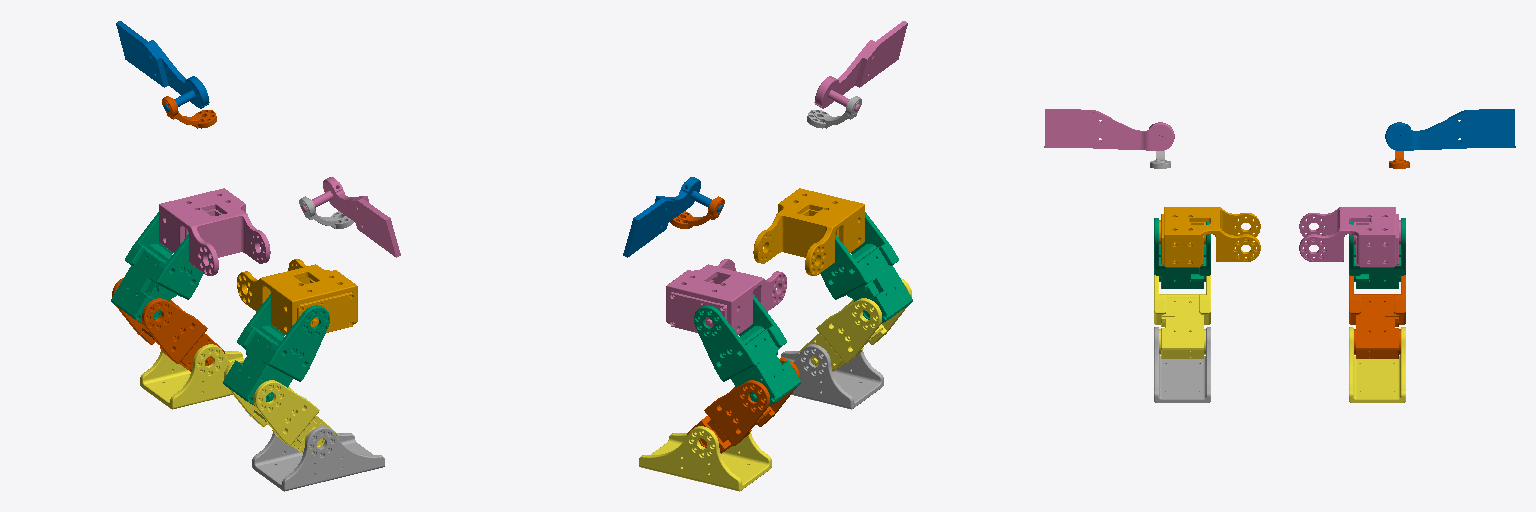
The robot description file, URDF, robot "arti_d1":
<?xml version="1.0"?>
<!-- generated by export_urdf.py from Fusion doc Open_mini_duck_redesign_for URDF, ARM_MODE=serial, ZERO_POSE=current -->
<!-- trunk frame origin = point from sketch redesign/Sketch52, Fusion world -9.64957 0 -246.248 mm (axes = Fusion world: x forward, y left, z up) -->
<!-- joint 0 = this Fusion pose (deg from the straight CAD pose): left_hip_pitch +36.240, left_knee -78.700, left_ankle +42.456, right_hip_pitch +36.240, right_knee -78.700, right_ankle +42.456 -->
<robot name="arti_d1">
  <link name="trunk">
    <inertial>
        <origin xyz="0 0 0" rpy="0 0 0" />
        <mass value="1e-9" />
        <inertia ixx="0" ixy="0" ixz="0" iyy="0" iyz="0" izz="0" />
    </inertial>
  </link>

  <!-- trunk = Fusion origin frame (zero mass); pelvis = root, origin at the ankle center on the floor -->
  <joint name="trunk_frame" type="fixed">
      <origin xyz="0.00964957 0 0.246248" rpy="0 0 0" />
      <parent link="pelvis" />
      <child link="trunk" />
      <axis xyz="0 0 0"/>
  </joint>

  <link name="pelvis">
    <inertial>
      <origin xyz="0.0142445 5.36923e-05 0.300732" rpy="0 0 0"/>
      <mass value="3.69352"/>
      <inertia ixx="0.0179764" iyy="0.0137874" izz="0.0183283" ixy="4.22501e-06" iyz="-7.15743e-06" ixz="0.00060127"/>
    </inertial>
    <visual>
      <origin xyz="0 0 0" rpy="0 0 0"/>
      <geometry><mesh filename="../../meshes/arti_d1/pelvis.stl" scale="0.001 0.001 0.001"/></geometry>
    </visual>
    <collision>
      <origin xyz="0 0 0" rpy="0 0 0"/>
      <geometry><mesh filename="../../meshes/arti_d1/pelvis.stl" scale="0.001 0.001 0.001"/></geometry>
    </collision>
  </link>

  <link name="left_thigh">
    <inertial>
      <origin xyz="-0.0339167 0.0245583 -0.0462735" rpy="0 0 0"/>
      <mass value="0.201567"/>
      <inertia ixx="0.000117356" iyy="0.000112819" izz="9.48907e-05" ixy="6.01623e-07" iyz="8.2081e-07" ixz="-3.55819e-05"/>
    </inertial>
    <visual>
      <origin xyz="0 0 0" rpy="0 0 0"/>
      <geometry><mesh filename="../../meshes/arti_d1/left_thigh.stl" scale="0.001 0.001 0.001"/></geometry>
    </visual>
    <collision>
      <origin xyz="0 0 0" rpy="0 0 0"/>
      <geometry><mesh filename="../../meshes/arti_d1/left_thigh.stl" scale="0.001 0.001 0.001"/></geometry>
    </collision>
  </link>
  <link name="left_foot_link">
    <inertial>
      <origin xyz="0.0116596 -0.0237721 -0.0422721" rpy="0 0 0"/>
      <mass value="0.15981"/>
      <inertia ixx="8.91057e-05" iyy="0.000156093" izz="0.000181798" ixy="-8.45586e-08" iyz="2.94024e-07" ixz="7.00463e-06"/>
    </inertial>
    <visual>
      <origin xyz="0 0 0" rpy="0 0 0"/>
      <geometry><mesh filename="../../meshes/arti_d1/left_foot.stl" scale="0.001 0.001 0.001"/></geometry>
    </visual>
    <collision>
      <origin xyz="0 0 0" rpy="0 0 0"/>
      <geometry><mesh filename="../../meshes/arti_d1/left_foot.stl" scale="0.001 0.001 0.001"/></geometry>
    </collision>
  </link>
  <link name="left_hip">
    <inertial>
      <origin xyz="-0.00492338 0 -0.084295" rpy="0 0 0"/>
      <mass value="0.19661"/>
      <inertia ixx="9.44363e-05" iyy="0.000104571" izz="5.45394e-05" ixy="0" iyz="0" ixz="8.88875e-07"/>
    </inertial>
    <visual>
      <origin xyz="0 0 0" rpy="0 0 0"/>
      <geometry><mesh filename="../../meshes/arti_d1/left_hip.stl" scale="0.001 0.001 0.001"/></geometry>
    </visual>
    <collision>
      <origin xyz="0 0 0" rpy="0 0 0"/>
      <geometry><mesh filename="../../meshes/arti_d1/left_hip.stl" scale="0.001 0.001 0.001"/></geometry>
    </collision>
  </link>
  <link name="left_shin">
    <inertial>
      <origin xyz="0.0387273 0.023442 -0.0423231" rpy="0 0 0"/>
      <mass value="0.201572"/>
      <inertia ixx="0.000109424" iyy="0.000112813" izz="0.00010282" ixy="6.87261e-07" iyz="-7.52772e-07" ixz="3.71616e-05"/>
    </inertial>
    <visual>
      <origin xyz="0 0 0" rpy="0 0 0"/>
      <geometry><mesh filename="../../meshes/arti_d1/left_shin.stl" scale="0.001 0.001 0.001"/></geometry>
    </visual>
    <collision>
      <origin xyz="0 0 0" rpy="0 0 0"/>
      <geometry><mesh filename="../../meshes/arti_d1/left_shin.stl" scale="0.001 0.001 0.001"/></geometry>
    </collision>
  </link>
  <link name="left_roll_to_pitch">
    <inertial>
      <origin xyz="0.0277586 0.0608919 0.00177323" rpy="0 0 0"/>
      <mass value="0.220929"/>
      <inertia ixx="0.000106859" iyy="0.000105589" izz="0.000163882" ixy="-4.32704e-06" iyz="1.70213e-06" ixz="3.58423e-07"/>
    </inertial>
    <visual>
      <origin xyz="0 0 0" rpy="0 0 0"/>
      <geometry><mesh filename="../../meshes/arti_d1/left_roll_to_pitch.stl" scale="0.001 0.001 0.001"/></geometry>
    </visual>
    <collision>
      <origin xyz="0 0 0" rpy="0 0 0"/>
      <geometry><mesh filename="../../meshes/arti_d1/left_roll_to_pitch.stl" scale="0.001 0.001 0.001"/></geometry>
    </collision>
  </link>
  <link name="right_foot_link">
    <inertial>
      <origin xyz="0.0116596 0.0242279 -0.0422721" rpy="0 0 0"/>
      <mass value="0.15981"/>
      <inertia ixx="8.91057e-05" iyy="0.000156093" izz="0.000181798" ixy="-8.45586e-08" iyz="2.94024e-07" ixz="7.00463e-06"/>
    </inertial>
    <visual>
      <origin xyz="0 0 0" rpy="0 0 0"/>
      <geometry><mesh filename="../../meshes/arti_d1/right_foot.stl" scale="0.001 0.001 0.001"/></geometry>
    </visual>
    <collision>
      <origin xyz="0 0 0" rpy="0 0 0"/>
      <geometry><mesh filename="../../meshes/arti_d1/right_foot.stl" scale="0.001 0.001 0.001"/></geometry>
    </collision>
  </link>
  <link name="right_roll_to_pitch">
    <inertial>
      <origin xyz="0.0277584 -0.060892 0.00177324" rpy="0 0 0"/>
      <mass value="0.220928"/>
      <inertia ixx="0.000106858" iyy="0.000105587" izz="0.00016388" ixy="4.32791e-06" iyz="-1.70218e-06" ixz="3.5834e-07"/>
    </inertial>
    <visual>
      <origin xyz="0 0 0" rpy="0 0 0"/>
      <geometry><mesh filename="../../meshes/arti_d1/right_roll_to_pitch.stl" scale="0.001 0.001 0.001"/></geometry>
    </visual>
    <collision>
      <origin xyz="0 0 0" rpy="0 0 0"/>
      <geometry><mesh filename="../../meshes/arti_d1/right_roll_to_pitch.stl" scale="0.001 0.001 0.001"/></geometry>
    </collision>
  </link>
  <link name="right_hip">
    <inertial>
      <origin xyz="-0.00492338 0 -0.084295" rpy="0 0 0"/>
      <mass value="0.19661"/>
      <inertia ixx="9.44363e-05" iyy="0.000104571" izz="5.45394e-05" ixy="0" iyz="0" ixz="8.88875e-07"/>
    </inertial>
    <visual>
      <origin xyz="0 0 0" rpy="0 0 0"/>
      <geometry><mesh filename="../../meshes/arti_d1/right_hip.stl" scale="0.001 0.001 0.001"/></geometry>
    </visual>
    <collision>
      <origin xyz="0 0 0" rpy="0 0 0"/>
      <geometry><mesh filename="../../meshes/arti_d1/right_hip.stl" scale="0.001 0.001 0.001"/></geometry>
    </collision>
  </link>
  <link name="right_thigh">
    <inertial>
      <origin xyz="-0.0339168 -0.0245577 -0.0462736" rpy="0 0 0"/>
      <mass value="0.201567"/>
      <inertia ixx="0.000117355" iyy="0.000112818" izz="9.48903e-05" ixy="-6.03408e-07" iyz="-8.23245e-07" ixz="-3.55812e-05"/>
    </inertial>
    <visual>
      <origin xyz="0 0 0" rpy="0 0 0"/>
      <geometry><mesh filename="../../meshes/arti_d1/right_thigh.stl" scale="0.001 0.001 0.001"/></geometry>
    </visual>
    <collision>
      <origin xyz="0 0 0" rpy="0 0 0"/>
      <geometry><mesh filename="../../meshes/arti_d1/right_thigh.stl" scale="0.001 0.001 0.001"/></geometry>
    </collision>
  </link>
  <link name="right_shin">
    <inertial>
      <origin xyz="0.0387277 -0.0234417 -0.0423232" rpy="0 0 0"/>
      <mass value="0.201569"/>
      <inertia ixx="0.000109423" iyy="0.00011281" izz="0.000102816" ixy="-6.8696e-07" iyz="7.50737e-07" ixz="3.71613e-05"/>
    </inertial>
    <visual>
      <origin xyz="0 0 0" rpy="0 0 0"/>
      <geometry><mesh filename="../../meshes/arti_d1/right_shin.stl" scale="0.001 0.001 0.001"/></geometry>
    </visual>
    <collision>
      <origin xyz="0 0 0" rpy="0 0 0"/>
      <geometry><mesh filename="../../meshes/arti_d1/right_shin.stl" scale="0.001 0.001 0.001"/></geometry>
    </collision>
  </link>
  <link name="left_arm_plate">
    <inertial>
      <origin xyz="0.0114968 0.091619 0.00152674" rpy="0 0 0"/>
      <mass value="0.0606196"/>
      <inertia ixx="0.000147627" iyy="6.21553e-06" izz="0.000148816" ixy="-6.08529e-06" iyz="-8.98693e-07" ixz="-2.25225e-07"/>
    </inertial>
    <visual>
      <origin xyz="0 0 0" rpy="0 0 0"/>
      <geometry><mesh filename="../../meshes/arti_d1/left_arm_plate.stl" scale="0.001 0.001 0.001"/></geometry>
    </visual>
    <collision>
      <origin xyz="0 0 0" rpy="0 0 0"/>
      <geometry><mesh filename="../../meshes/arti_d1/left_arm_plate.stl" scale="0.001 0.001 0.001"/></geometry>
    </collision>
  </link>
  <link name="left_arm_m8_crank">
    <inertial>
      <origin xyz="-0.0253569 5.20576e-08 0.013644" rpy="0 0 0"/>
      <mass value="0.0078822"/>
      <inertia ixx="8.98065e-07" iyy="2.58505e-06" izz="1.96519e-06" ixy="0" iyz="0" ixz="1.03863e-06"/>
    </inertial>
    <visual>
      <origin xyz="0 0 0" rpy="0 0 0"/>
      <geometry><mesh filename="../../meshes/arti_d1/left_arm_m8_crank.stl" scale="0.001 0.001 0.001"/></geometry>
    </visual>
    <collision>
      <origin xyz="0 0 0" rpy="0 0 0"/>
      <geometry><mesh filename="../../meshes/arti_d1/left_arm_m8_crank.stl" scale="0.001 0.001 0.001"/></geometry>
    </collision>
  </link>
  <link name="right_arm_plate">
    <inertial>
      <origin xyz="0.0114968 -0.0916191 0.00152676" rpy="0 0 0"/>
      <mass value="0.0606195"/>
      <inertia ixx="0.000147626" iyy="6.21553e-06" izz="0.000148816" ixy="6.08533e-06" iyz="8.98572e-07" ixz="-2.25229e-07"/>
    </inertial>
    <visual>
      <origin xyz="0 0 0" rpy="0 0 0"/>
      <geometry><mesh filename="../../meshes/arti_d1/right_arm_plate.stl" scale="0.001 0.001 0.001"/></geometry>
    </visual>
    <collision>
      <origin xyz="0 0 0" rpy="0 0 0"/>
      <geometry><mesh filename="../../meshes/arti_d1/right_arm_plate.stl" scale="0.001 0.001 0.001"/></geometry>
    </collision>
  </link>
  <link name="right_arm_m8_crank">
    <inertial>
      <origin xyz="-0.0253566 -4.06803e-09 0.0136439" rpy="0 0 0"/>
      <mass value="0.00788231"/>
      <inertia ixx="8.98084e-07" iyy="2.58514e-06" izz="1.96528e-06" ixy="0" iyz="0" ixz="1.03866e-06"/>
    </inertial>
    <visual>
      <origin xyz="0 0 0" rpy="0 0 0"/>
      <geometry><mesh filename="../../meshes/arti_d1/right_arm_m8_crank.stl" scale="0.001 0.001 0.001"/></geometry>
    </visual>
    <collision>
      <origin xyz="0 0 0" rpy="0 0 0"/>
      <geometry><mesh filename="../../meshes/arti_d1/right_arm_m8_crank.stl" scale="0.001 0.001 0.001"/></geometry>
    </collision>
  </link>
  <joint name="left_hip_yaw" type="revolute">
    <origin xyz="0.00964957 0.035 0.281048" rpy="0 0 0"/>
    <parent link="pelvis"/>
    <child link="left_hip"/>
    <axis xyz="0 0 1"/>
    <limit effort="10.6" velocity="3.14" lower="-0.523599" upper="0.523599"/>
  </joint>
  <joint name="left_hip_roll" type="revolute">
    <origin xyz="-0.0295 0 -0.10025" rpy="0 0 0"/>
    <parent link="left_hip"/>
    <child link="left_roll_to_pitch"/>
    <axis xyz="1 0 0"/>
    <limit effort="10.6" velocity="3.14" lower="-0.314159" upper="0.20944"/>
  </joint>
  <joint name="left_hip_pitch" type="revolute">
    <origin xyz="0.01325 0.04175 -5e-06" rpy="0 0 0"/>
    <parent link="left_roll_to_pitch"/>
    <child link="left_thigh"/>
    <axis xyz="0 1 0"/>
    <limit effort="10.6" velocity="3.14" lower="-1.15611" upper="0.781209"/>
  </joint>
  <joint name="left_knee" type="revolute">
    <origin xyz="-0.0464984 0 -0.063439" rpy="0 0 0"/>
    <parent link="left_thigh"/>
    <child link="left_shin"/>
    <axis xyz="0 1 0"/>
    <limit effort="10.6" velocity="3.14" lower="-0.354302" upper="1.54811"/>
  </joint>
  <joint name="left_ankle" type="revolute">
    <origin xyz="0.0530947 0.048 -0.0580239" rpy="0 0 0"/>
    <parent link="left_shin"/>
    <child link="left_foot_link"/>
    <axis xyz="0 1 0"/>
    <limit effort="10.6" velocity="3.14" lower="-1.80565" upper="0.568"/>
  </joint>
  <joint name="right_hip_yaw" type="revolute">
    <origin xyz="0.00964957 -0.035 0.281048" rpy="0 0 0"/>
    <parent link="pelvis"/>
    <child link="right_hip"/>
    <axis xyz="0 0 1"/>
    <limit effort="10.6" velocity="3.14" lower="-0.523599" upper="0.523599"/>
  </joint>
  <joint name="right_hip_roll" type="revolute">
    <origin xyz="-0.0295 0 -0.10025" rpy="0 0 0"/>
    <parent link="right_hip"/>
    <child link="right_roll_to_pitch"/>
    <axis xyz="1 0 0"/>
    <limit effort="10.6" velocity="3.14" lower="-0.20944" upper="0.314159"/>
  </joint>
  <joint name="right_hip_pitch" type="revolute">
    <origin xyz="0.01325 -0.04175 -5e-06" rpy="0 0 0"/>
    <parent link="right_roll_to_pitch"/>
    <child link="right_thigh"/>
    <axis xyz="0 1 0"/>
    <limit effort="10.6" velocity="3.14" lower="-1.15611" upper="0.781209"/>
  </joint>
  <joint name="right_knee" type="revolute">
    <origin xyz="-0.0464984 0 -0.063439" rpy="0 0 0"/>
    <parent link="right_thigh"/>
    <child link="right_shin"/>
    <axis xyz="0 1 0"/>
    <limit effort="10.6" velocity="3.14" lower="-0.354302" upper="1.54811"/>
  </joint>
  <joint name="right_ankle" type="revolute">
    <origin xyz="0.0530947 -0.048 -0.0580239" rpy="0 0 0"/>
    <parent link="right_shin"/>
    <child link="right_foot_link"/>
    <axis xyz="0 1 0"/>
    <limit effort="10.6" velocity="3.14" lower="-1.80565" upper="0.568"/>
  </joint>
  <joint name="left_arm_m8" type="revolute">
    <origin xyz="0.0248443 0.12358 0.272732" rpy="0 0 0"/>
    <parent link="pelvis"/>
    <child link="left_arm_m8_crank"/>
    <axis xyz="-0.258819 0 0.965926"/>
    <limit effort="4.1" velocity="4.82" lower="-1.0472" upper="0.349066"/>
  </joint>
  <joint name="left_arm_m8crank_plate" type="revolute">
    <origin xyz="-0.0214747 0 0.0256665" rpy="0 0 0"/>
    <parent link="left_arm_m8_crank"/>
    <child link="left_arm_plate"/>
    <axis xyz="0.965926 0 0.258819"/>
    <limit effort="4.1" velocity="4.82" lower="-0.226893" upper="1.16937"/>
  </joint>
  <joint name="right_arm_m8" type="revolute">
    <origin xyz="0.0248443 -0.12358 0.272732" rpy="0 0 0"/>
    <parent link="pelvis"/>
    <child link="right_arm_m8_crank"/>
    <axis xyz="0.258819 0 -0.965926"/>
    <limit effort="4.1" velocity="4.82" lower="-1.0472" upper="0.349066"/>
  </joint>
  <joint name="right_arm_m8crank_plate" type="revolute">
    <origin xyz="-0.0214747 0 0.0256665" rpy="0 0 0"/>
    <parent link="right_arm_m8_crank"/>
    <child link="right_arm_plate"/>
    <axis xyz="-0.965926 0 -0.258819"/>
    <limit effort="4.1" velocity="4.82" lower="-0.226893" upper="1.16937"/>
  </joint>

  <!-- sole contact frames: center of the foot sole at zero pose (from foot mesh bounds) -->
  <joint name="left_foot_frame" type="fixed">
    <origin xyz="0.0135599213 -0.024 -0.0593316689" rpy="0 0 0" />
    <parent link="left_foot_link"/>
    <child link="left_foot"/>
    <axis xyz="0 0 0"/>
  </joint>
  <link name="left_foot"/>

  <joint name="right_foot_frame" type="fixed">
    <origin xyz="0.0135599213 0.0240000019 -0.0593316765" rpy="0 0 0" />
    <parent link="right_foot_link"/>
    <child link="right_foot"/>
    <axis xyz="0 0 0"/>
  </joint>
  <link name="right_foot"/>
</robot>

--- Render facts (derived) ---
The picture shows the robot from 3 angles, left to right: view 1: azimuth 30°, elevation 25°; view 2: azimuth 150°, elevation 25°; view 3: azimuth 270°, elevation 25°; orthographic projection.
Robot: arti_d1 — 18 links, 17 joints (14 revolute, 3 fixed); root link pelvis; default pose: all joints at 0.
Visible links, largest first — view 1: left_roll_to_pitch, right_thigh, right_roll_to_pitch, right_foot_link, left_thigh, left_foot_link, left_shin, right_shin, left_arm_plate, right_arm_plate, left_arm_m8_crank, right_arm_m8_crank; view 2: right_roll_to_pitch, left_thigh, left_roll_to_pitch, left_foot_link, right_thigh, right_foot_link, right_shin, left_shin, right_arm_plate, left_arm_plate, right_arm_m8_crank, left_arm_m8_crank; view 3: right_roll_to_pitch, left_roll_to_pitch, left_arm_plate, right_arm_plate, left_shin, right_shin, left_foot_link, right_foot_link, left_thigh, right_thigh.
Link boxes in pixels (left/top/right/bottom): left_roll_to_pitch: left=159, top=188, right=270, bottom=275; right_thigh: left=223, top=294, right=329, bottom=405; right_roll_to_pitch: left=237, top=259, right=357, bottom=334; right_foot_link: left=252, top=426, right=384, bottom=491; left_thigh: left=111, top=212, right=208, bottom=323; left_foot_link: left=140, top=344, right=242, bottom=409; left_shin: left=112, top=278, right=224, bottom=371; right_shin: left=224, top=358, right=336, bottom=453; left_arm_plate: left=116, top=21, right=209, bottom=111; right_arm_plate: left=301, top=177, right=400, bottom=257; left_arm_m8_crank: left=162, top=96, right=216, bottom=128; right_arm_m8_crank: left=299, top=196, right=353, bottom=228; right_roll_to_pitch: left=753, top=188, right=864, bottom=275; left_thigh: left=694, top=294, right=800, bottom=405; left_roll_to_pitch: left=666, top=259, right=786, bottom=334; left_foot_link: left=639, top=426, right=771, bottom=491; right_thigh: left=815, top=212, right=912, bottom=323; right_foot_link: left=781, top=344, right=883, bottom=409; right_shin: left=799, top=278, right=911, bottom=371; left_shin: left=687, top=358, right=799, bottom=453; right_arm_plate: left=814, top=21, right=907, bottom=111; left_arm_plate: left=623, top=177, right=722, bottom=257; right_arm_m8_crank: left=807, top=96, right=861, bottom=128; left_arm_m8_crank: left=670, top=196, right=724, bottom=228; right_roll_to_pitch: left=1159, top=207, right=1260, bottom=267; left_roll_to_pitch: left=1299, top=207, right=1400, bottom=267; left_arm_plate: left=1385, top=109, right=1515, bottom=150; right_arm_plate: left=1044, top=109, right=1174, bottom=150; left_shin: left=1349, top=275, right=1405, bottom=358; right_shin: left=1154, top=275, right=1210, bottom=358; left_foot_link: left=1349, top=327, right=1405, bottom=402; right_foot_link: left=1154, top=327, right=1210, bottom=402; left_thigh: left=1349, top=218, right=1405, bottom=288; right_thigh: left=1154, top=218, right=1210, bottom=288.
Bounding box of the posed robot: 0.1396 × 0.4876 × 0.3079 m (x, y, z).
Meshes: 15 distinct files referenced, 12 mesh visuals loaded (12 binary STL); not drawn: 3 (reference not matched to a file when rendering).
